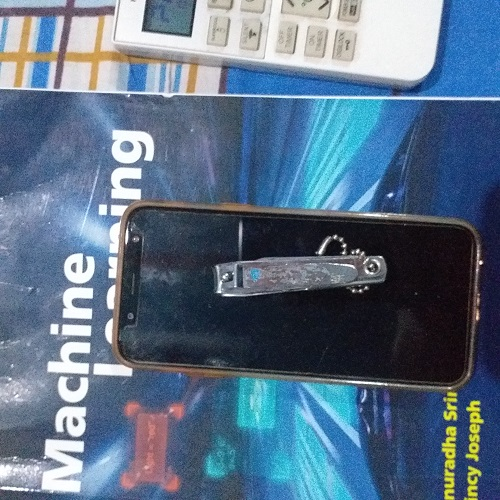nailcutter: (204, 226, 407, 308)
